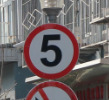speed_limit_5: (23, 23, 79, 79)
